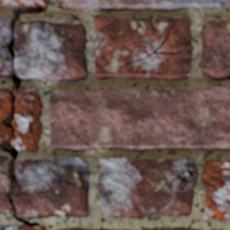brick: (49, 86, 229, 150), (94, 15, 190, 79), (98, 158, 197, 217), (57, 0, 229, 10), (201, 21, 229, 79), (203, 160, 229, 219), (0, 0, 45, 6), (0, 225, 44, 229), (168, 228, 190, 229)
broken_brick: (14, 156, 90, 219), (14, 19, 88, 81), (13, 89, 43, 152), (0, 14, 11, 78), (0, 154, 10, 214), (0, 87, 8, 118), (0, 125, 8, 138)
crack: (0, 2, 48, 227), (165, 167, 197, 191), (205, 163, 227, 170), (26, 90, 39, 99)
